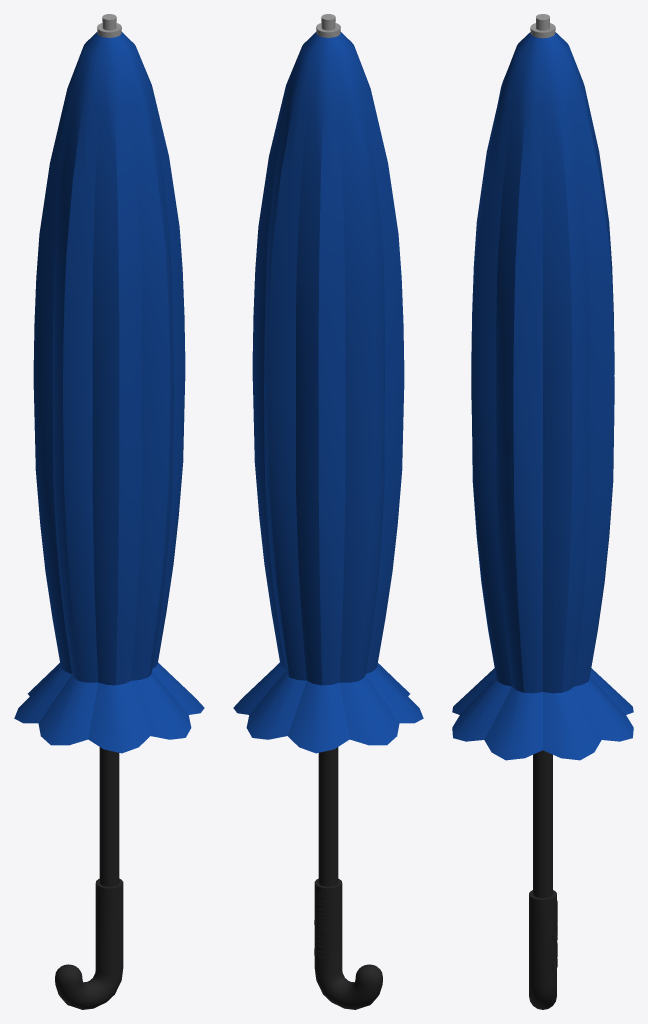
The model's file is closed_umbrella.fbx.
3 views of the same model, side by side, from view 1: azimuth 30°, elevation 25°; view 2: azimuth 150°, elevation 25°; view 3: azimuth 270°, elevation 25° (orthographic).
Parts seen in each view (by area): view 1: Circle.1780; view 2: Circle.1780; view 3: Circle.1780.
Part boxes in pixels (x1,y1,x2,y2): Circle.1780: (14,14,204,1009); Circle.1780: (233,14,423,1009); Circle.1780: (452,14,633,1009).
Bounding box in the file's own units: 38.99 × 237 × 38.99.
1 material, 1 textured.
